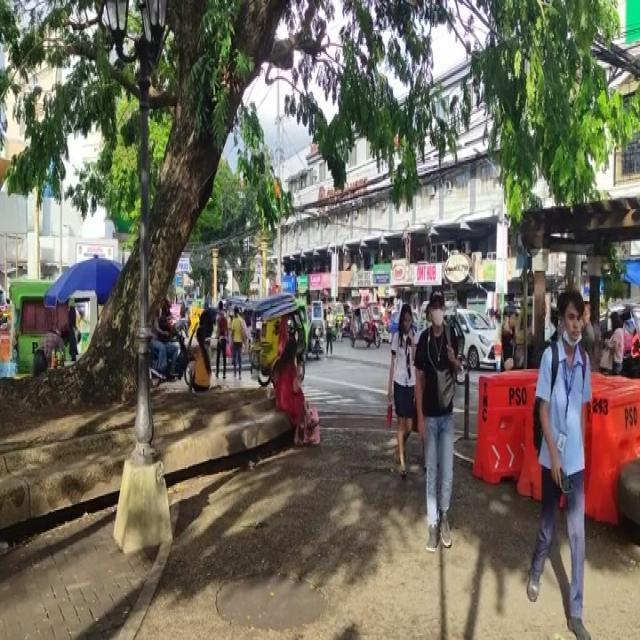hairnet: (562, 306, 582, 346)
